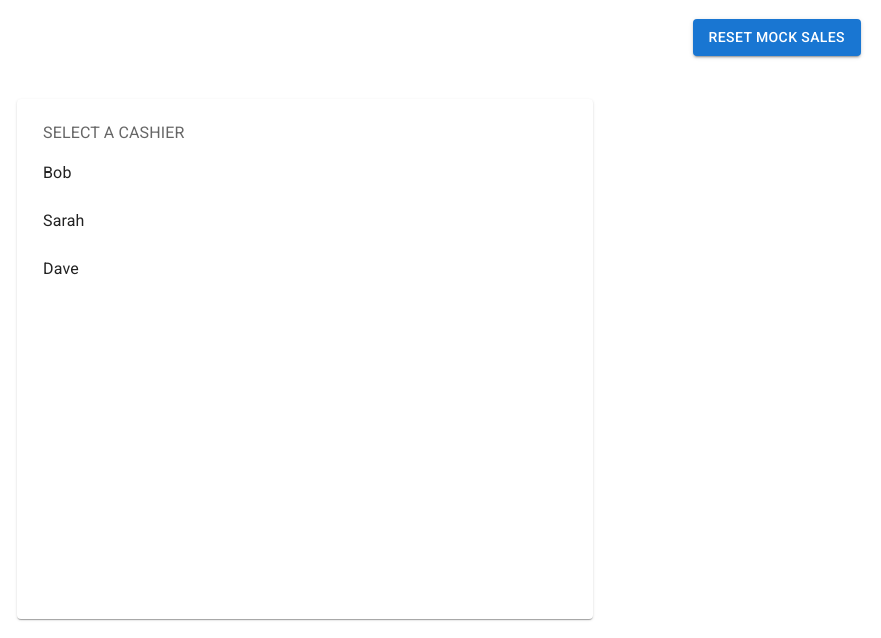
Test case: Cashier Sales App › should reset mock sales and display Bob, Dave, and Sarah in the sales table
Check: the text "SELECT A CASHIER" is shown, box [43, 123, 185, 142]
Click the button "Reset mock sales". click: (777, 38)
box: [693, 19, 861, 56]
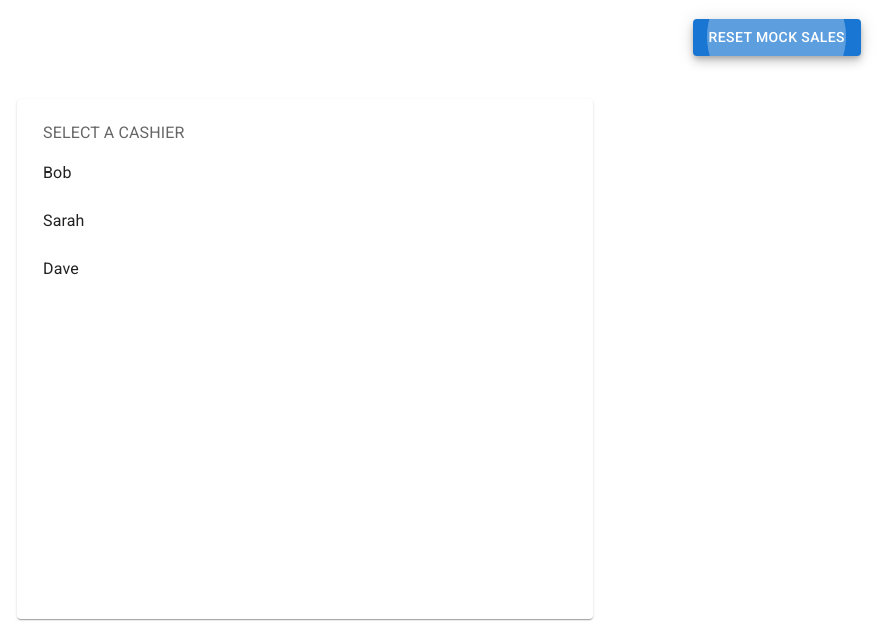
Click the text "Bob". click: (58, 173)
box: [43, 163, 72, 182]
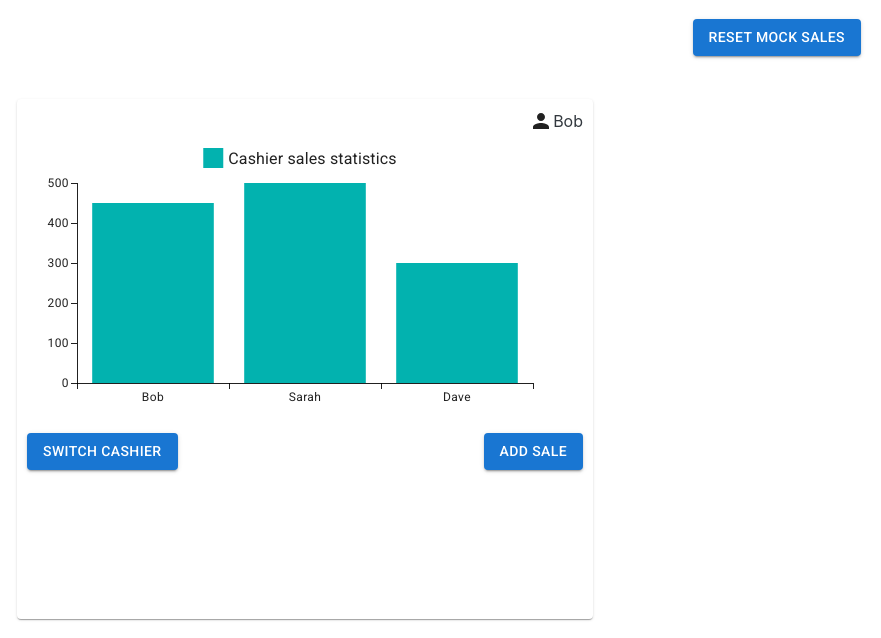
Check: the text "Cashier sales statistics" is shown, box [228, 149, 396, 168]
Check: the text "Bob" is shown, box [553, 109, 583, 133]
